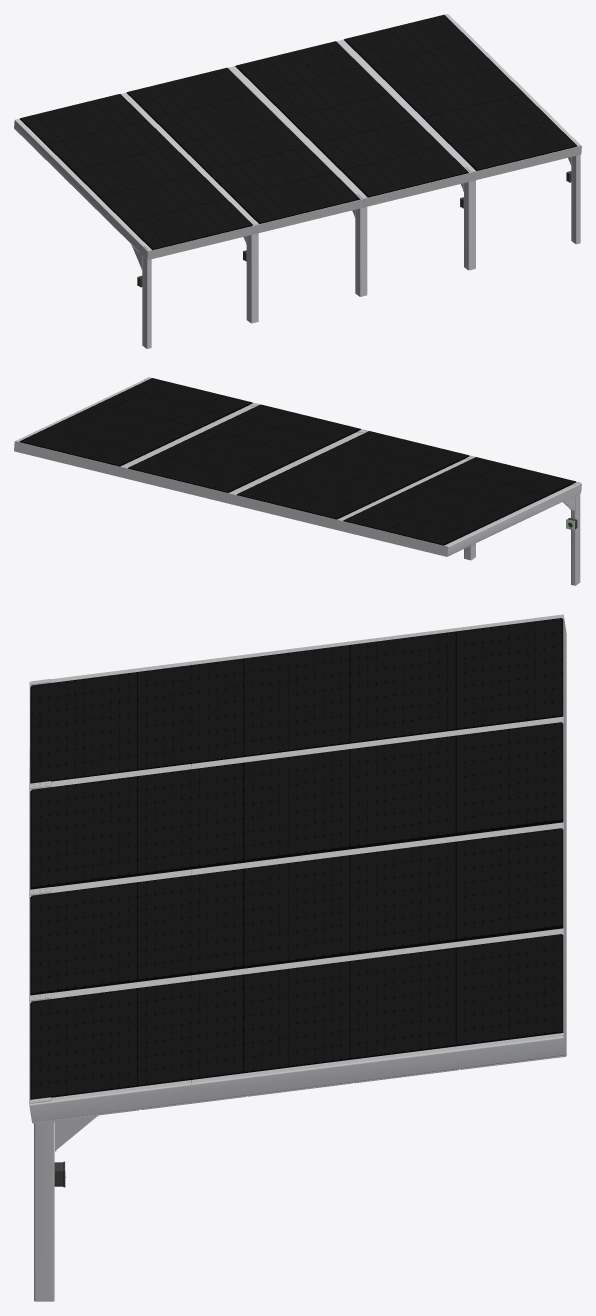
File: oldCap_4.glb
The picture shows the model from 3 angles, top to bottom: view 1: azimuth 30°, elevation 25°; view 2: azimuth 150°, elevation 25°; view 3: azimuth 270°, elevation 25°; orthographic projection. The views are drawn at different scales.
Parts seen in each view (by area): view 1: Left.077, Middle.005, Middle.006, Middle.004, Right.004; view 2: Left.077, Middle.005, Middle.004, Middle.006, Right.004; view 3: Middle.006, Middle.005, Middle.004, Left.077, Right.004.
Part boxes in pixels (<box>): Left.077: <box>14,94,256,348</box>; Middle.005: <box>228,40,473,296</box>; Middle.006: <box>336,14,581,270</box>; Middle.004: <box>121,67,364,323</box>; Right.004: <box>445,14,580,244</box>; Left.077: <box>338,457,581,585</box>; Middle.005: <box>122,404,368,504</box>; Middle.004: <box>231,431,475,560</box>; Middle.006: <box>14,378,259,477</box>; Right.004: <box>16,377,151,441</box>; Middle.006: <box>29,928,566,1123</box>; Middle.005: <box>29,822,566,998</box>; Middle.004: <box>29,716,566,893</box>; Left.077: <box>29,614,566,787</box>; Right.004: <box>29,1033,565,1301</box>.
Bounding box in the file's own units: 10.72 × 3.11 × 5.7.
5 materials, 5 textured.
